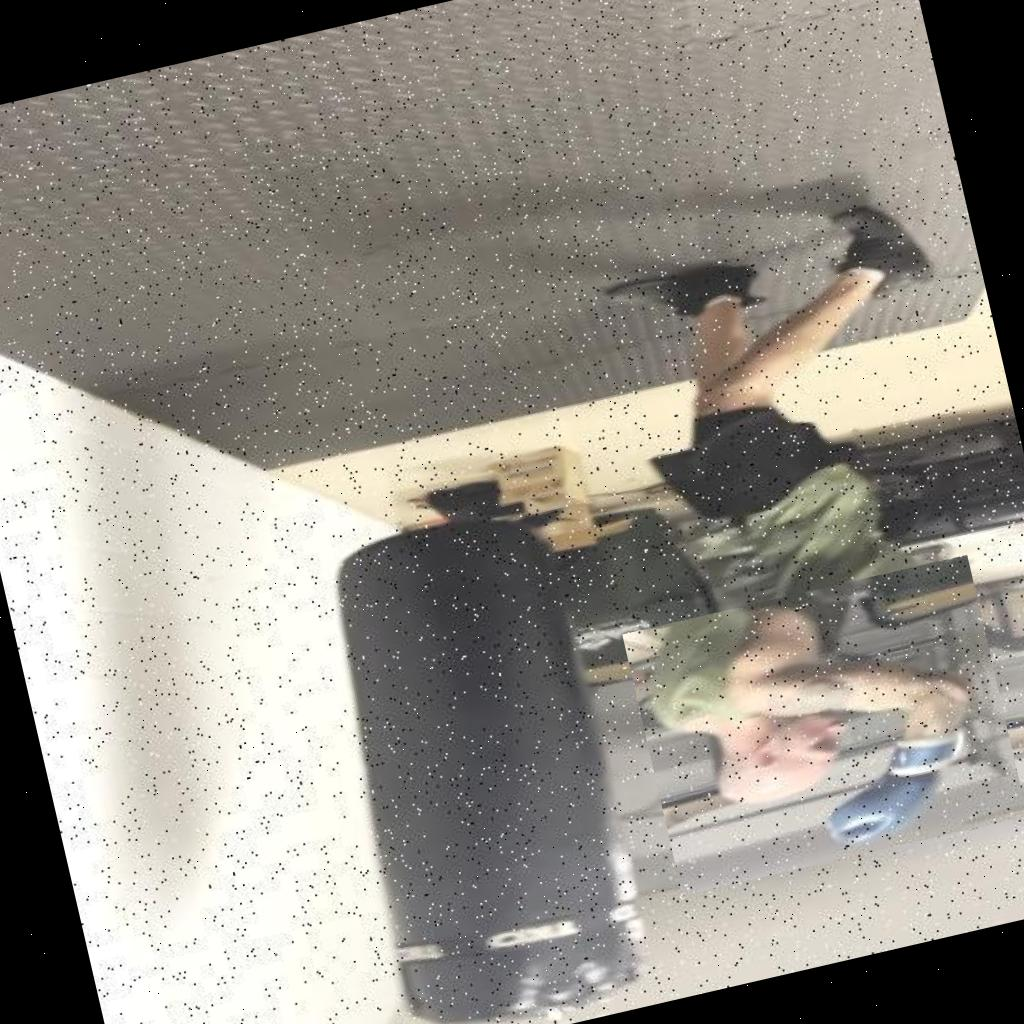bag: (255, 473, 698, 1024)
uppercut: (622, 554, 1024, 895)
